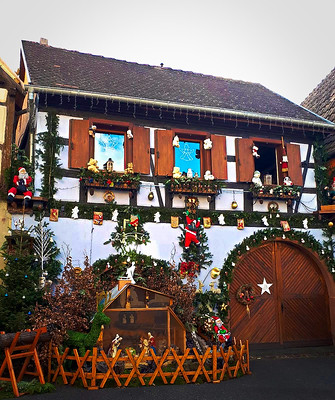high: (15, 36, 335, 386)
